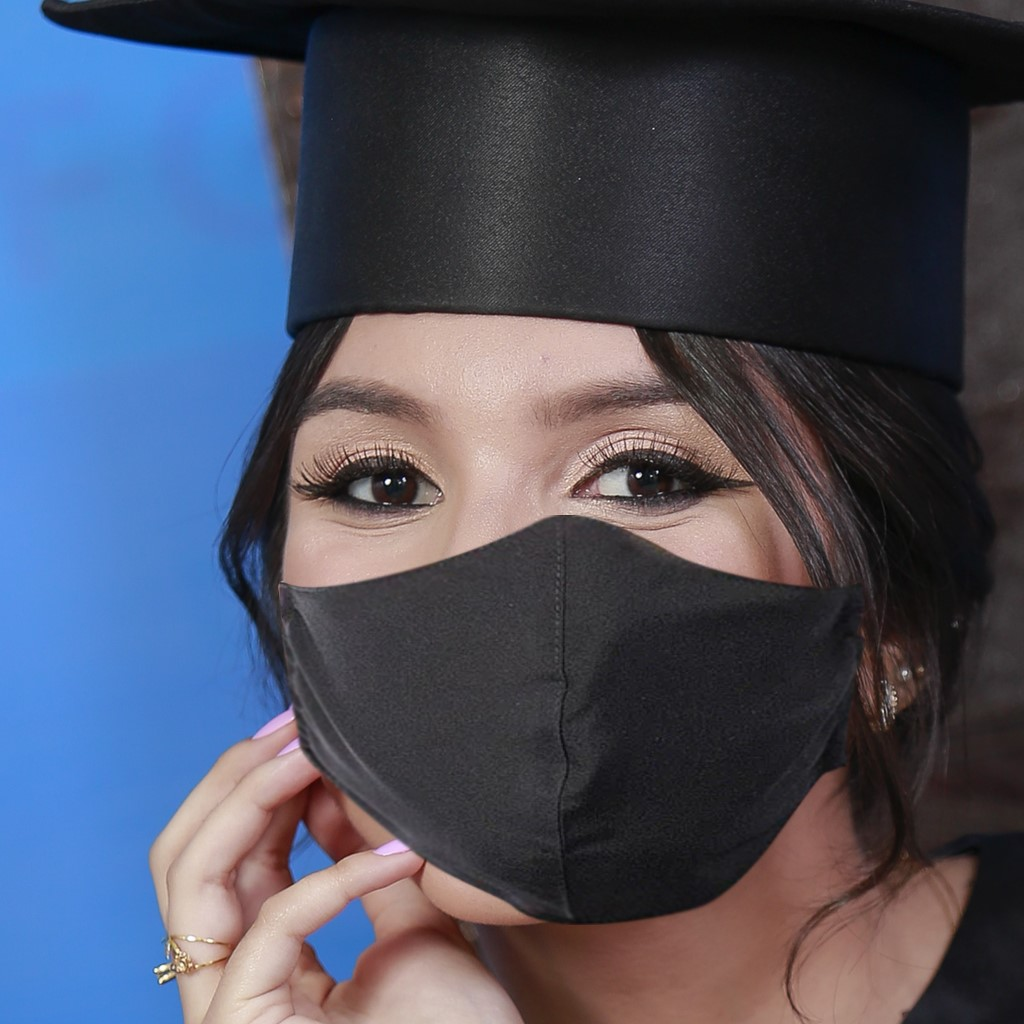con_mascara: (264, 243, 889, 913)
